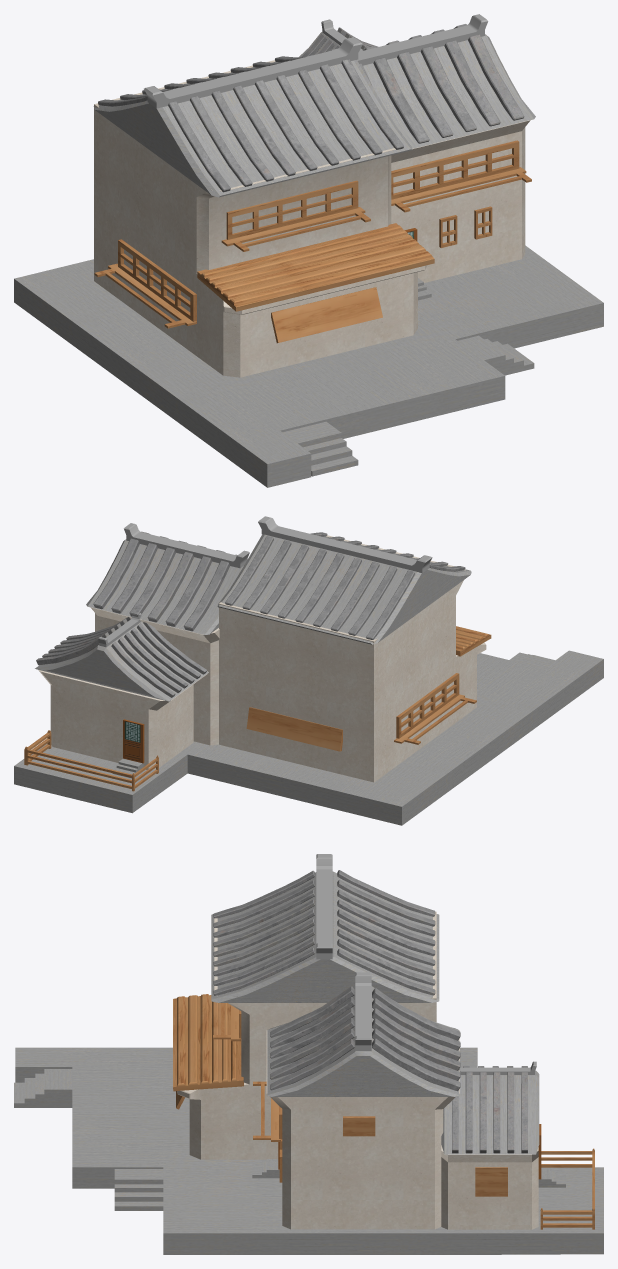
File: minju3.fbx
The picture shows the model from 3 angles, top to bottom: view 1: azimuth 30°, elevation 25°; view 2: azimuth 150°, elevation 25°; view 3: azimuth 270°, elevation 25°; orthographic projection. The views are drawn at different scales.
Parts seen in each view (by area): view 1: polySurface247, polySurface309, polySurface310, polySurface312, polySurface308, polySurface296, polySurface311, polySurface243, polySurface295, polySurface299, polySurface302, polySurface244 (+20 smaller); view 2: polySurface247, polySurface309, polySurface310, polySurface312, polySurface307, polySurface311, polySurface308, polySurface313, polySurface295, polySurface305, polySurface306, polySurface293 (+27 smaller); view 3: polySurface247, polySurface308, polySurface312, polySurface307, polySurface311, polySurface310, polySurface296, polySurface313, polySurface309, polySurface245, polySurface244, polySurface295 (+41 smaller).
Part boxes in pixels (bbox=[...]): polySurface247: bbox=[14, 245, 603, 487]; polySurface309: bbox=[94, 60, 395, 276]; polySurface310: bbox=[94, 202, 427, 377]; polySurface312: bbox=[93, 60, 412, 197]; polySurface308: bbox=[391, 120, 530, 282]; polySurface296: bbox=[197, 223, 434, 311]; polySurface311: bbox=[363, 34, 535, 148]; polySurface243: bbox=[271, 287, 382, 343]; polySurface295: bbox=[144, 37, 362, 108]; polySurface299: bbox=[391, 140, 519, 199]; polySurface302: bbox=[226, 180, 358, 239]; polySurface244: bbox=[283, 421, 358, 476]; polySurface247: bbox=[14, 650, 603, 825]; polySurface309: bbox=[219, 535, 467, 718]; polySurface310: bbox=[219, 642, 486, 782]; polySurface312: bbox=[217, 534, 471, 644]; polySurface307: bbox=[38, 669, 206, 769]; polySurface311: bbox=[86, 539, 243, 634]; polySurface308: bbox=[90, 607, 219, 745]; polySurface313: bbox=[35, 621, 208, 701]; polySurface295: bbox=[258, 516, 432, 573]; polySurface305: bbox=[246, 707, 342, 751]; polySurface306: bbox=[24, 730, 158, 791]; polySurface293: bbox=[124, 523, 249, 568]; polySurface247: bbox=[15, 1047, 603, 1254]; polySurface308: bbox=[266, 1030, 459, 1229]; polySurface312: bbox=[211, 871, 439, 1002]; polySurface307: bbox=[441, 1145, 538, 1229]; polySurface311: bbox=[267, 986, 459, 1096]; polySurface310: bbox=[177, 1082, 278, 1159]; polySurface296: bbox=[173, 994, 243, 1091]; polySurface313: bbox=[441, 1070, 539, 1154]; polySurface309: bbox=[214, 911, 436, 1087]; polySurface245: bbox=[114, 1169, 163, 1210]; polySurface244: bbox=[14, 1069, 72, 1107]; polySurface295: bbox=[316, 854, 332, 959].
Bounding box in the file's own units: 9.36 × 5.4 × 12.14.
